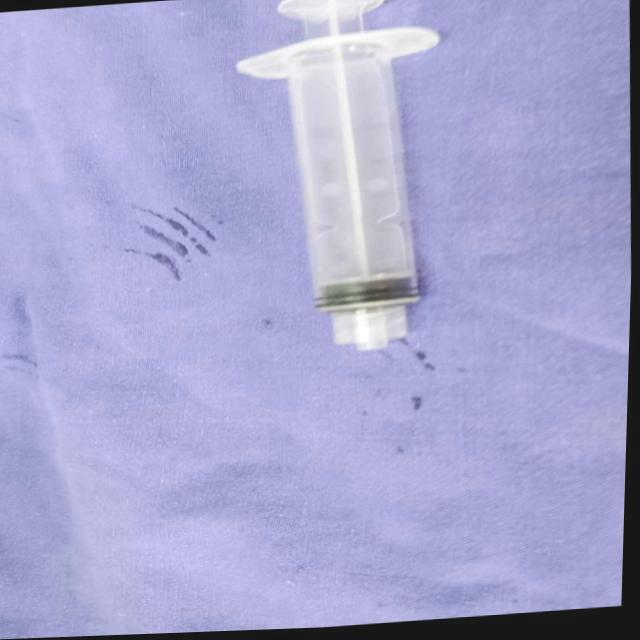Pathological: (0, 0, 631, 638)
Sharps: (234, 0, 441, 351)
